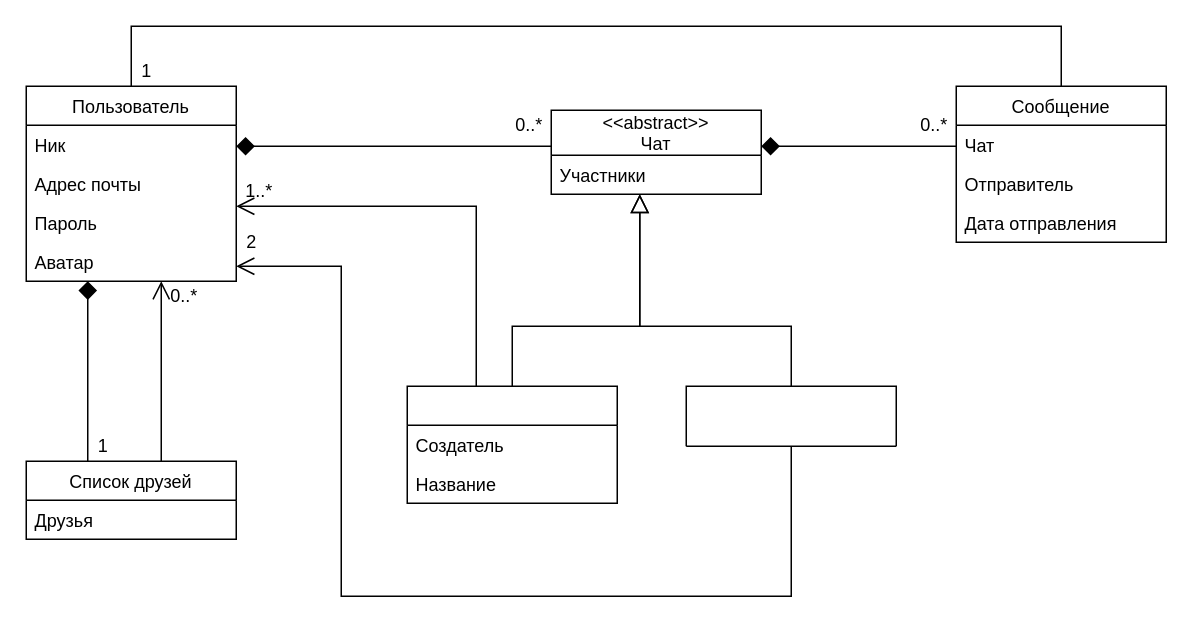
The diagram is 1193 pixels wide and 641 high, and some of its shapes have lost their labels. Each missing label, with the box of its shape:
Групповой чат: (406, 385, 617, 503)
Личный чат: (685, 385, 896, 446)
